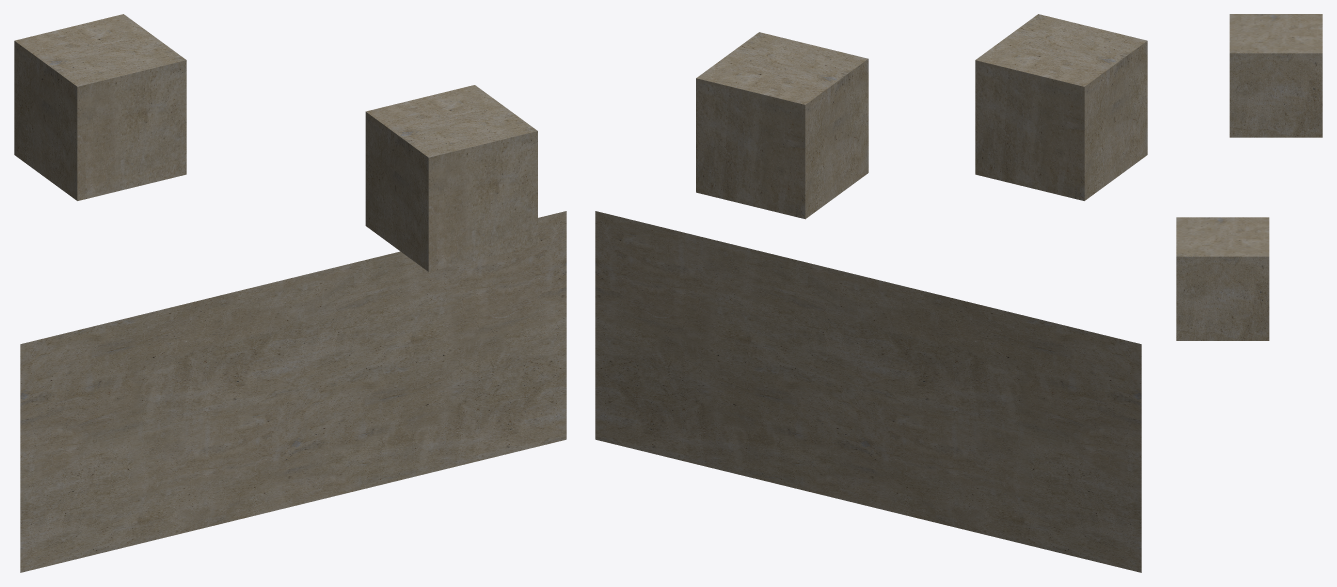
The model's file is debugScene.glb.
The picture shows the model from 3 angles, left to right: view 1: azimuth 30°, elevation 25°; view 2: azimuth 150°, elevation 25°; view 3: azimuth 270°, elevation 25°; orthographic projection. The views are drawn at different scales.
Parts seen in each view (by area): view 1: Plane, Cube, Cube.001; view 2: Plane, Cube.001, Cube; view 3: Cube, Cube.001.
Part boxes in pixels (x1,y1,x2,y2): Plane: (20, 211, 566, 572); Cube: (14, 14, 186, 200); Cube.001: (365, 85, 537, 271); Plane: (595, 211, 1141, 572); Cube.001: (696, 32, 868, 219); Cube: (975, 14, 1147, 200); Cube: (1229, 14, 1322, 137); Cube.001: (1176, 217, 1269, 340).
Size of the model in its own units: 10 by 8.8 by 3.14.
Materials: 1 (1 with a texture image).
